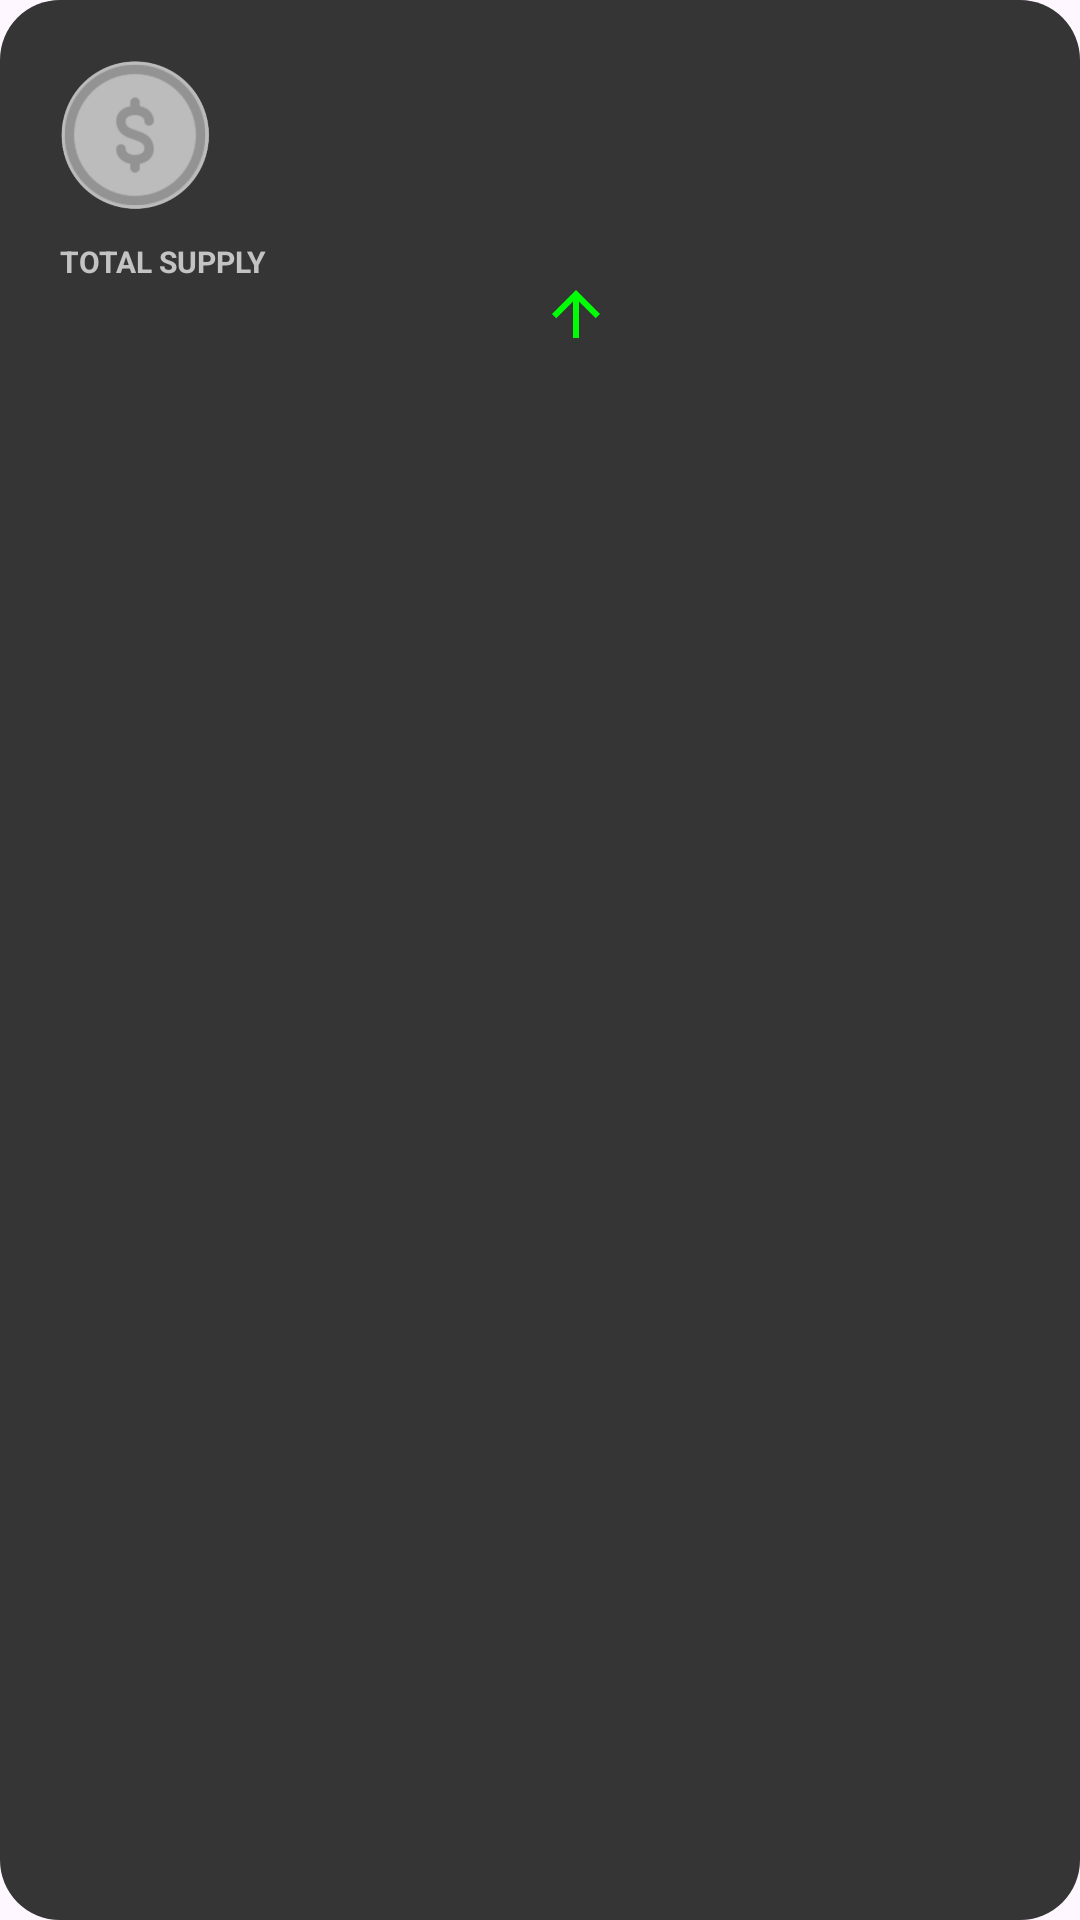

Icons on this 1080px×1920px Android screen, each with its box as (x1, y1, x2, y2):
arrow upward: (552, 290, 600, 338)
